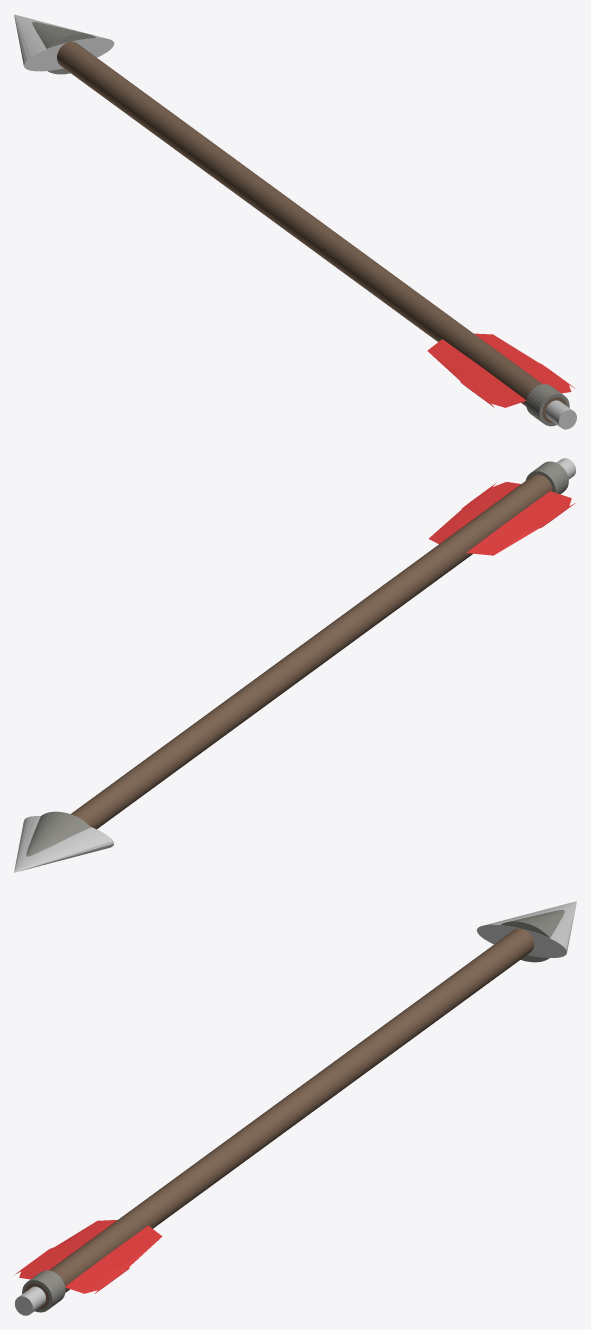
Rendered from Glad Bolt.fbx.
3 views of the same model, one above another, from view 1: azimuth 30°, elevation 25°; view 2: azimuth 150°, elevation 25°; view 3: azimuth 330°, elevation 25° (orthographic).
Parts seen in each view (by area): view 1: Cylinder, Cube.007, Cone, Cube.006, Cone.001, Cylinder.001, Cylinder.002; view 2: Cylinder, Cube.007, Cone, Cone.001, Cube.006, Cylinder.001; view 3: Cylinder, Cube.006, Cone, Cube.007, Cone.001, Cylinder.001, Cylinder.002.
Part boxes in pixels (<box>): Cylinder: <box>57,41,566,422</box>; Cube.007: <box>427,339,526,407</box>; Cone: <box>14,14,114,71</box>; Cube.006: <box>474,333,575,393</box>; Cone.001: <box>32,22,96,74</box>; Cylinder.001: <box>526,384,569,426</box>; Cylinder.002: <box>545,400,576,429</box>; Cylinder: <box>70,474,552,829</box>; Cube.007: <box>466,491,575,555</box>; Cone: <box>14,816,113,872</box>; Cone.001: <box>26,811,90,856</box>; Cube.006: <box>428,482,520,543</box>; Cylinder.001: <box>525,461,568,494</box>; Cylinder: <box>25,928,533,1309</box>; Cube.006: <box>65,1225,162,1293</box>; Cone: <box>477,901,576,957</box>; Cube.007: <box>15,1220,117,1279</box>; Cone.001: <box>501,910,564,962</box>; Cylinder.001: <box>22,1270,65,1312</box>; Cylinder.002: <box>15,1286,45,1315</box>.
Bounding box in the file's own units: 150 × 60.5 × 1584.
